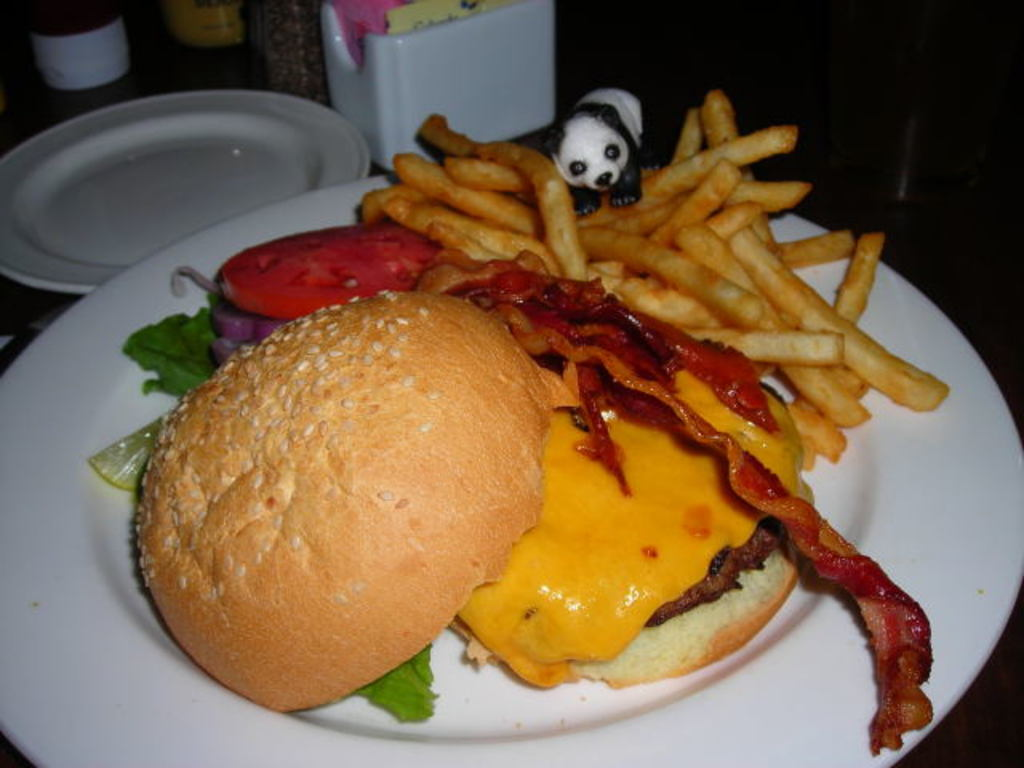French fries: (473, 140, 928, 459)
